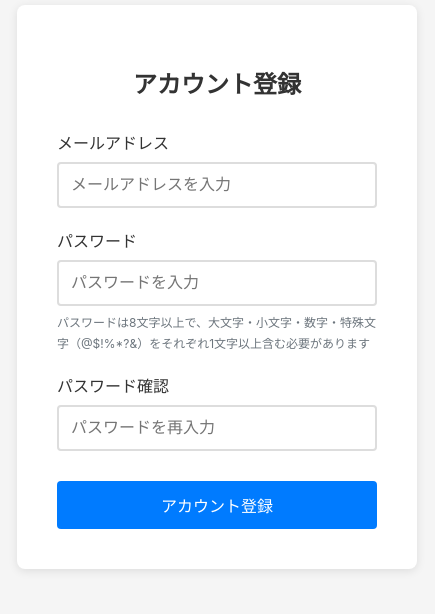
Test case: RegisterForm › shows loading state during submission
Type "test@example.com" into the field labelled "メールアドレス" at (217, 185), box [57,162,377,208]
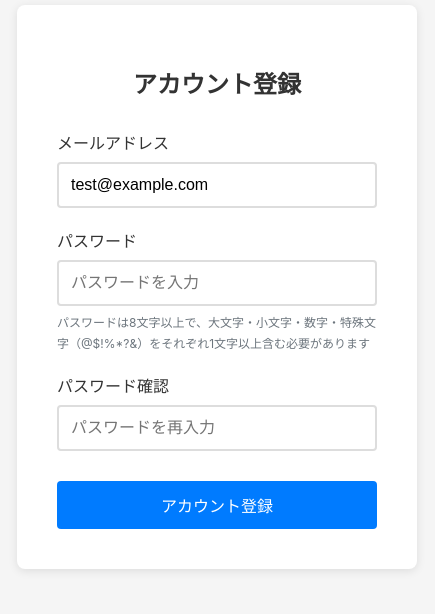
Type "Password123!" into the password field labelled "パスワード" at (217, 283), box [57,260,377,306]
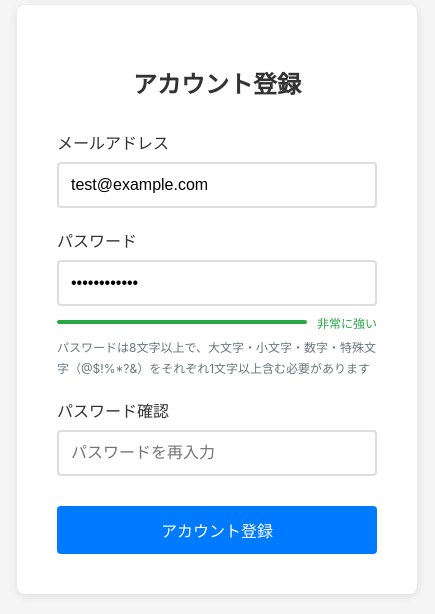
Type "Password123!" into the password field labelled "パスワード確認" at (217, 452), box [57,430,377,476]
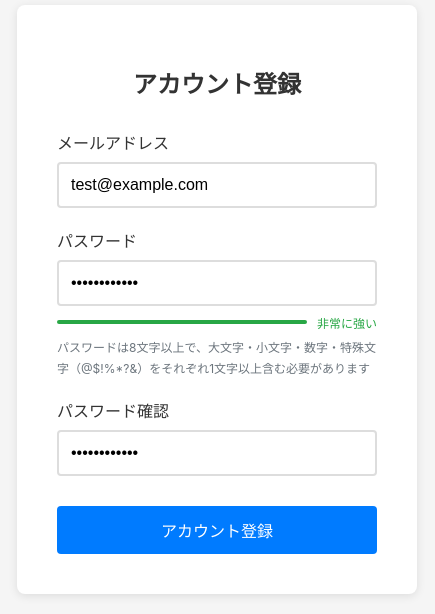
Click the button "アカウント登録" at (217, 530), box [57,506,377,554]
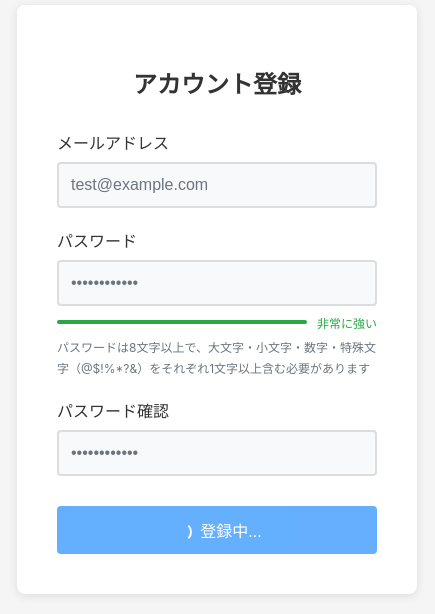
Check: the button "登録中..." is disabled, box [57,506,377,554]
